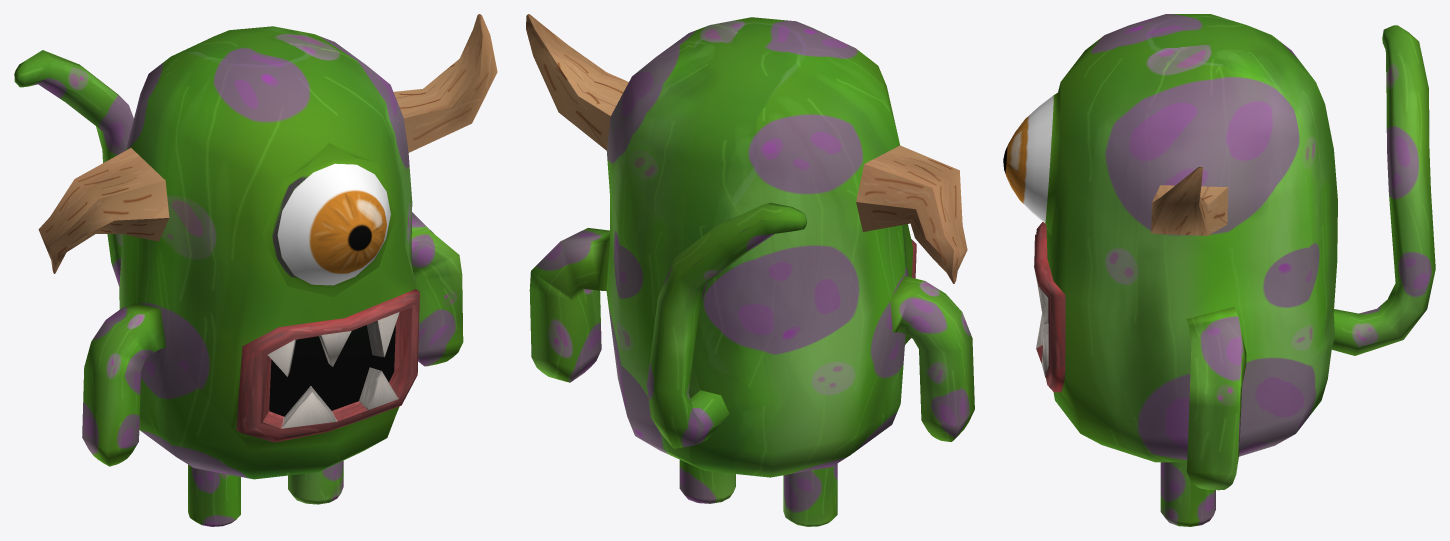
File: monster_2.glb
The picture shows the model from 3 angles, left to right: view 1: azimuth 30°, elevation 25°; view 2: azimuth 150°, elevation 25°; view 3: azimuth 270°, elevation 25°; orthographic projection.
Parts seen in each view (by area): view 1: polySurface6, polySurface5, pPlane1, polySurface7, polySurface2, polySurface3; view 2: polySurface6, polySurface2, polySurface3; view 3: polySurface6, polySurface5, polySurface3, polySurface7.
Boxes of the visible parts, left/top/right/bottom form: polySurface6: left=14, top=14, right=497, bottom=479; polySurface5: left=277, top=163, right=390, bottom=285; pPlane1: left=269, top=324, right=395, bottom=416; polySurface7: left=262, top=143, right=397, bottom=296; polySurface2: left=188, top=464, right=240, bottom=526; polySurface3: left=288, top=460, right=343, bottom=504; polySurface6: left=526, top=14, right=974, bottom=477; polySurface2: left=783, top=463, right=837, bottom=526; polySurface3: left=679, top=460, right=735, bottom=503; polySurface6: left=1034, top=14, right=1435, bottom=490; polySurface5: left=1003, top=95, right=1053, bottom=223; polySurface3: left=1160, top=462, right=1215, bottom=526; polySurface7: left=1045, top=82, right=1060, bottom=235.
Bounding box in the file's own units: 1.75 × 1.78 × 1.51.
1 material, 1 textured.
